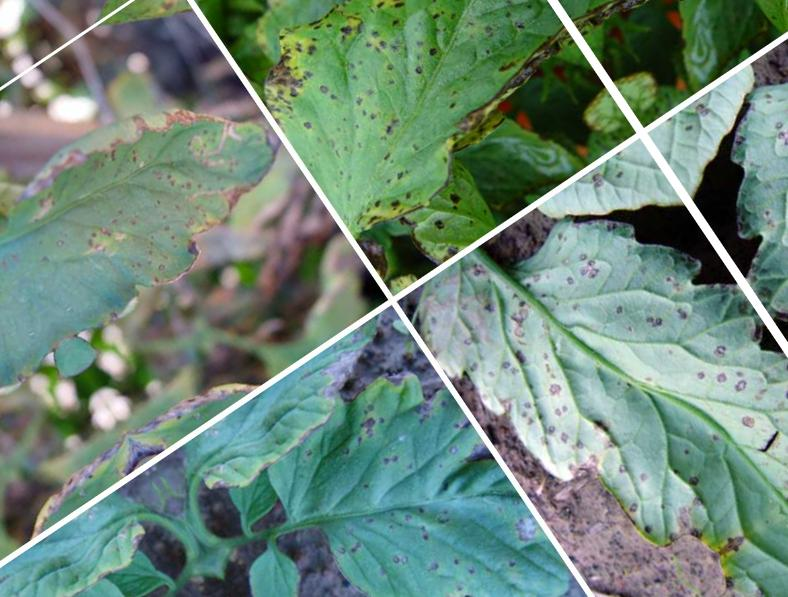Tomato leaf bacterial spot: (412, 156, 788, 597), (0, 50, 323, 362), (234, 0, 607, 265), (216, 357, 574, 597)
